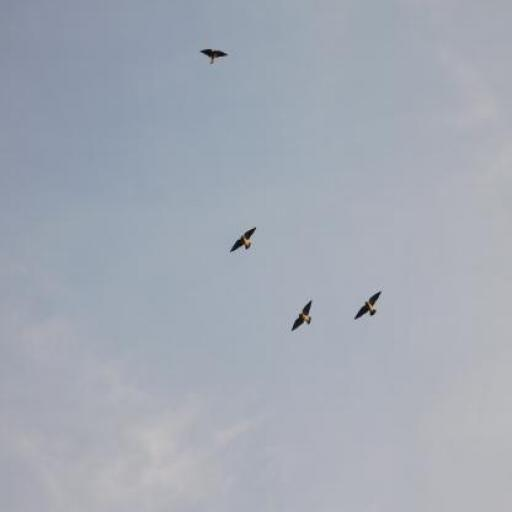bird: (354, 290, 383, 320), (290, 300, 312, 332), (230, 226, 257, 252), (199, 49, 228, 65)
